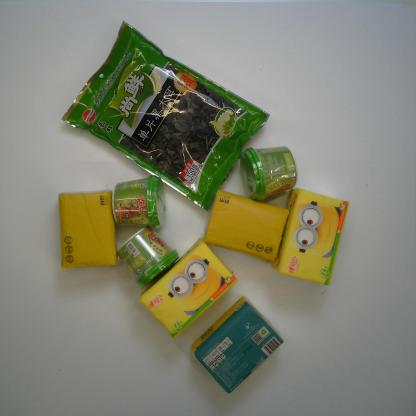Dried Food: (59, 17, 271, 214)
Instant Drink: (116, 222, 181, 292), (238, 144, 299, 204), (111, 173, 171, 230)
Tissue: (137, 236, 239, 340), (190, 295, 286, 396), (267, 185, 351, 286), (201, 189, 290, 264), (57, 189, 117, 273)
